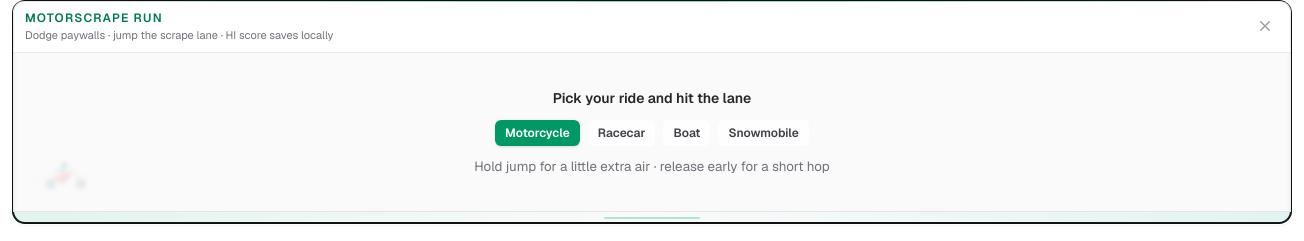
ScrapeMiniGame › keeps the loop alive if the canvas starts with zero size
This screenshot has width=1304, height=241.
Press the mouse on the element named "MotorScrape Run mini-game" at {"x": 652, "y": 112}, box [12,0,1292,224]
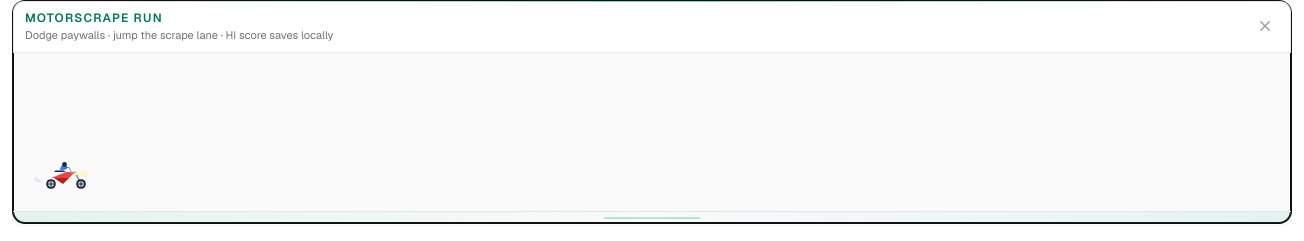
Expected: the text "Pick your ride and hit the lane" is gone
